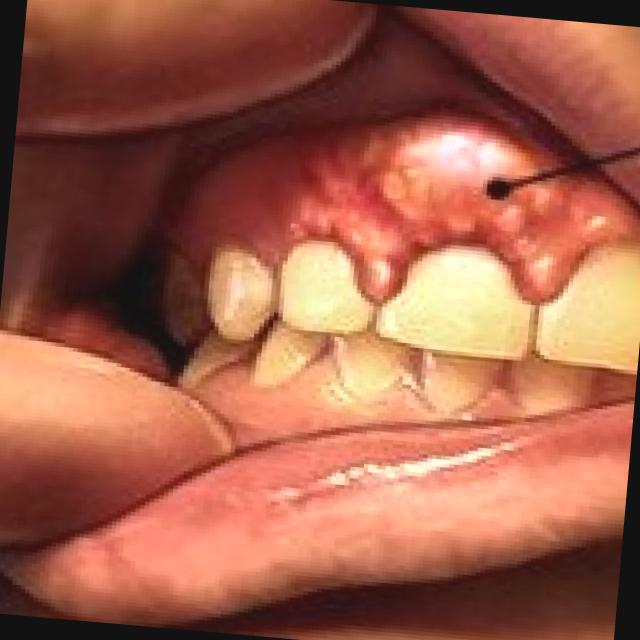abscess: (261, 100, 609, 326)
